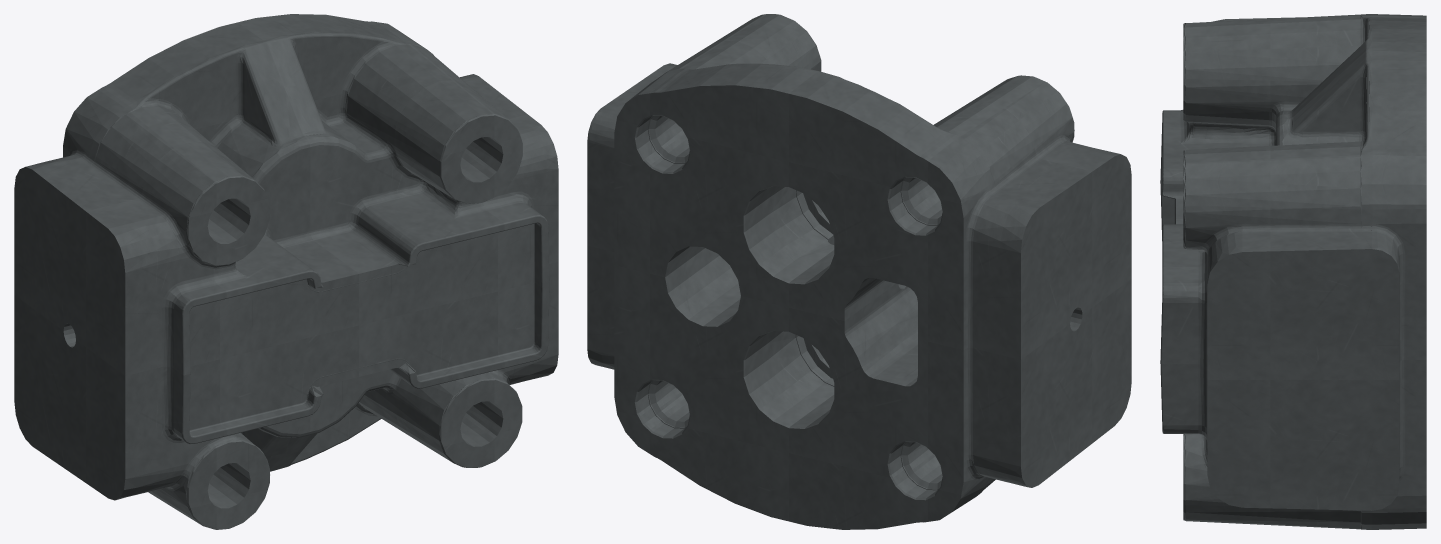
The picture shows the model from 3 angles, left to right: view 1: azimuth 30°, elevation 25°; view 2: azimuth 150°, elevation 25°; view 3: azimuth 270°, elevation 25°; orthographic projection. The views are drawn at different scales.
Visible parts, largest first — view 1: Part; view 2: Part; view 3: Part.
Part boxes in pixels (x1,y1,x2,y2): Part: (14,14,558,529); Part: (587,14,1131,529); Part: (1160,14,1426,529).
Size of the model in its own units: 175 by 163 by 88.62.
Materials: 1 (1 with a texture image).
